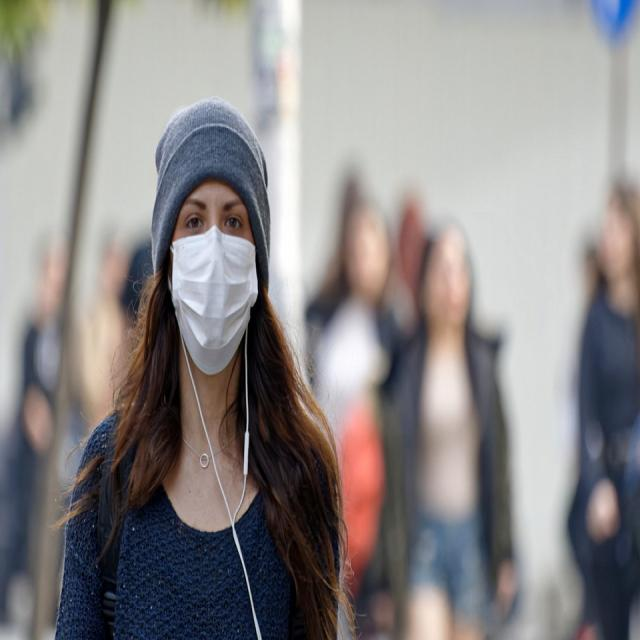1_mascarilla: (172, 236, 258, 366)
